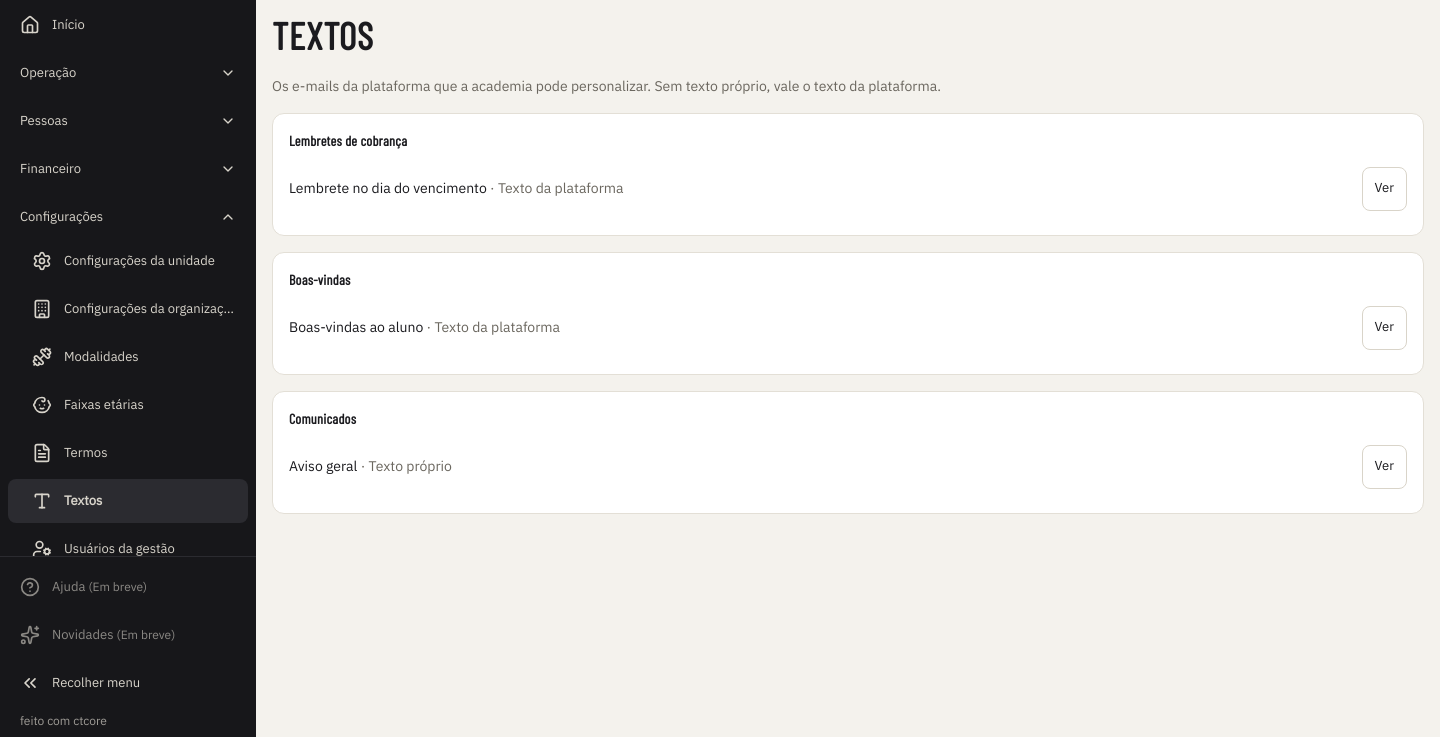
TextsPage › CA17: o Administrador vê o editor desabilitado e sem Salvar
What coordinates should you click on to do the following:
click the button "Ver" in the row of "Boas-vindas ao aluno"
I would click on:
 (1384, 328)
Its box is [1362,306,1407,350].
(page scrolled)
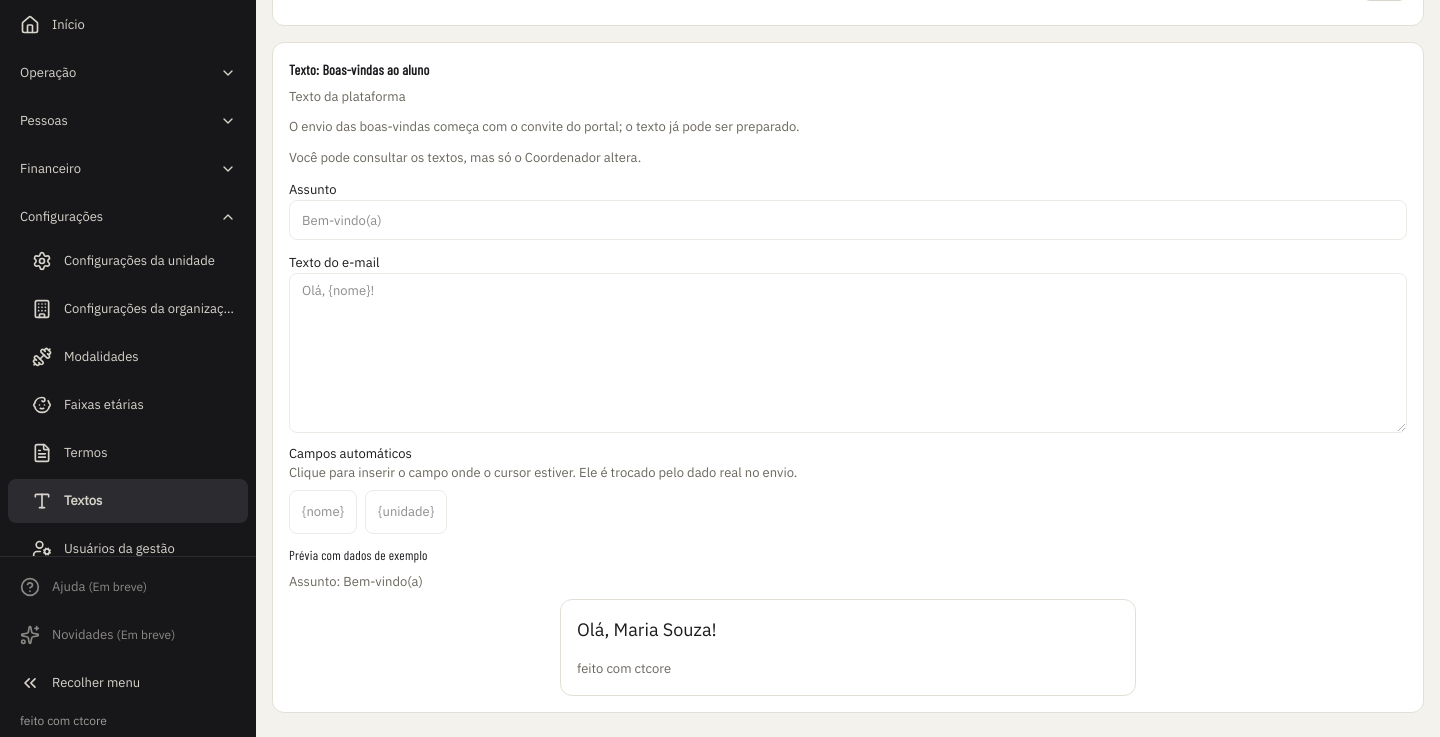
Now the text box labelled "Texto do e-mail" is disabled, box [289,273,1407,433]
Now the field labelled "Assunto" is disabled, box [289,200,1407,240]
Now the button with aria-label "Inserir o campo nome" is disabled, box [289,490,357,534]
